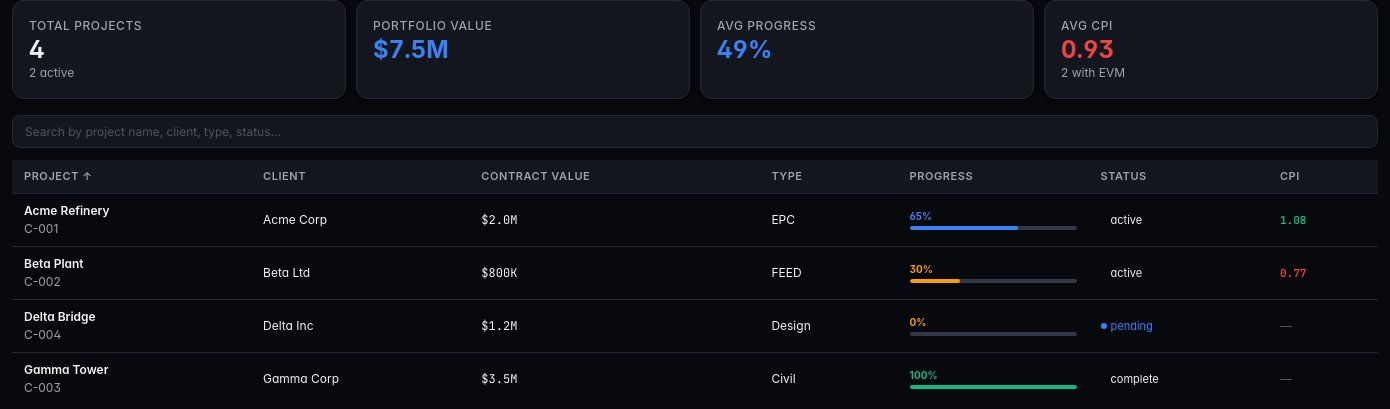
Test: ProjectsView — search › filters by client name
Type "Beta Ltd" into the search field at (695, 132), box [12,115,1378,148]
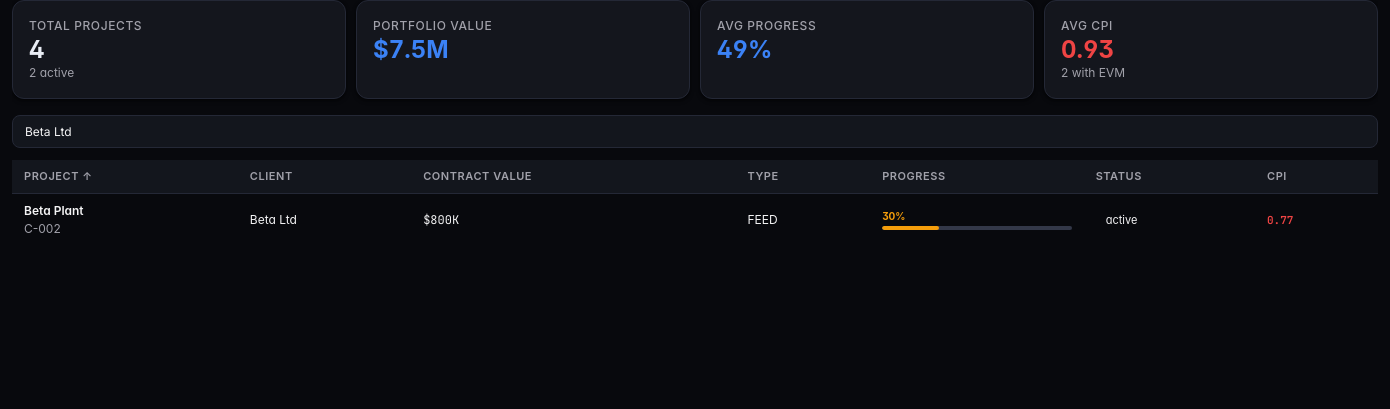
Expected: the text "Beta Plant" is shown, [24,202,84,218]
Now the text "Acme Refinery" is gone
